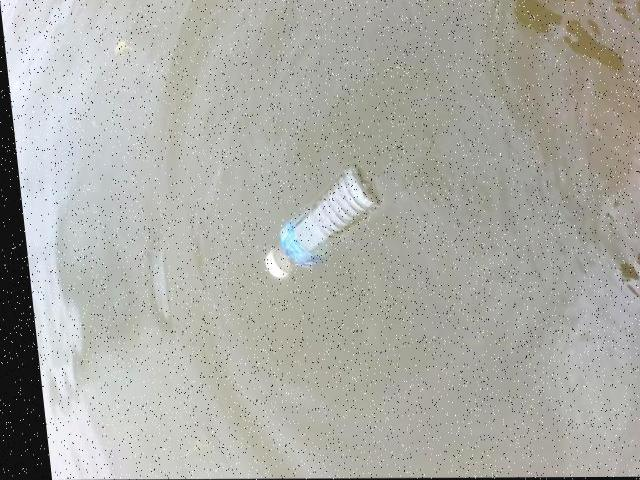Bottle: (255, 160, 389, 284)
